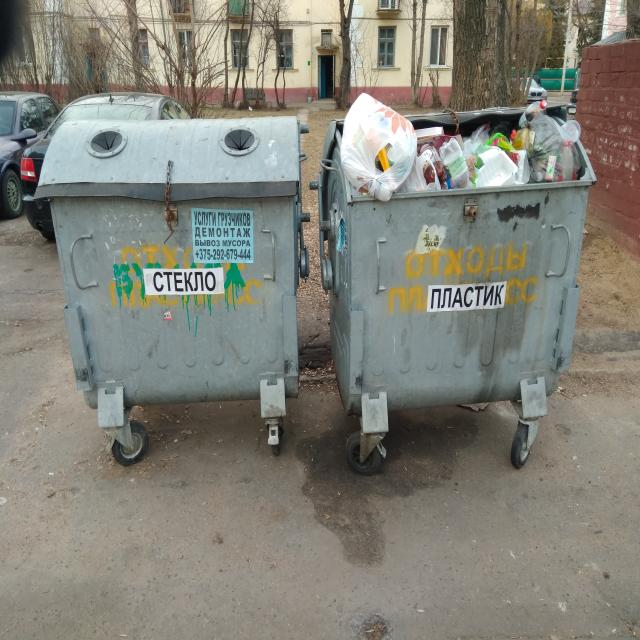lixo domiciliar: (330, 89, 422, 200), (524, 116, 580, 182), (472, 130, 531, 183), (442, 142, 472, 190), (462, 118, 493, 160), (422, 144, 448, 192), (517, 96, 548, 130), (414, 126, 446, 146)
